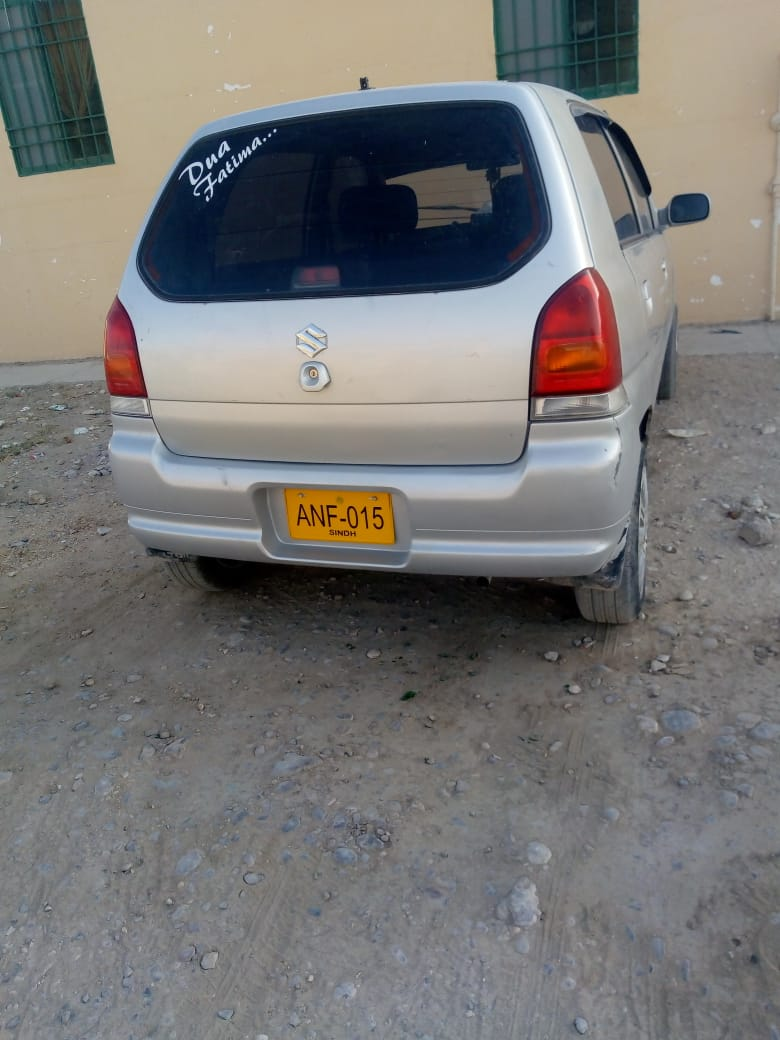license plate: (285, 489, 398, 545)
